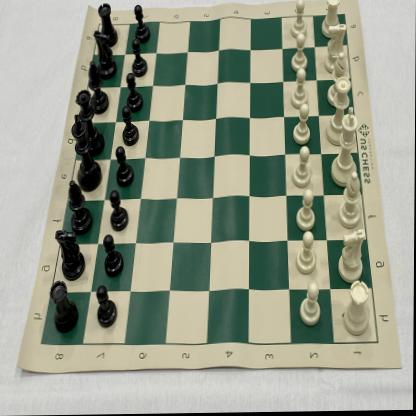black-bishop: (68, 181, 92, 234), (88, 62, 110, 115)
black-king: (69, 114, 102, 191)
black-pawn: (96, 282, 118, 330), (103, 233, 124, 277), (121, 103, 140, 147), (115, 143, 134, 187), (110, 186, 128, 231), (126, 72, 145, 112), (133, 4, 151, 44), (131, 38, 149, 77)
black-queen: (75, 89, 100, 149)
black-rook: (55, 226, 86, 282), (49, 280, 81, 334), (94, 30, 117, 78), (97, 3, 117, 48)
white-bishop: (339, 170, 364, 228), (327, 53, 349, 108)
white-king: (331, 108, 359, 188)
white-knight: (338, 227, 367, 284), (324, 24, 347, 74)
white-pawn: (295, 232, 322, 276), (300, 283, 326, 327), (292, 146, 316, 190), (292, 104, 316, 146), (296, 191, 320, 231), (291, 69, 311, 109), (291, 0, 311, 38), (291, 34, 311, 72)
white-queen: (326, 77, 354, 147)
white-rook: (344, 278, 372, 337), (321, 0, 343, 40)
